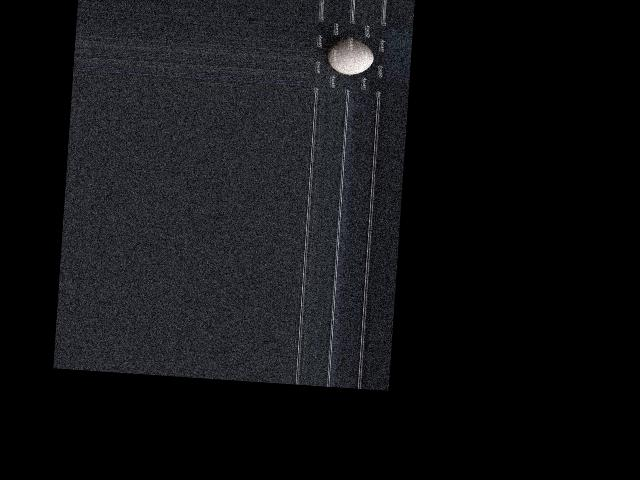egg: (326, 37, 374, 75)
